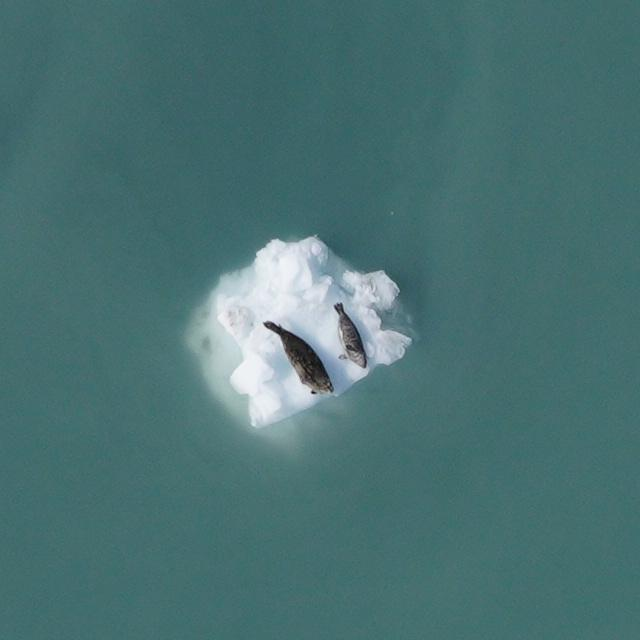seal: (260, 305, 339, 405), (323, 298, 371, 373)
